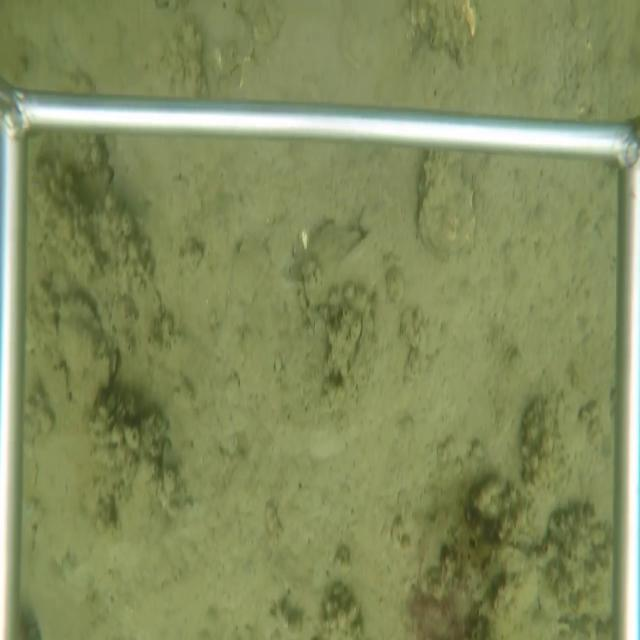Oyster-Closed: (417, 150, 477, 260)
Oyster-Indeterminate: (53, 293, 115, 415)
